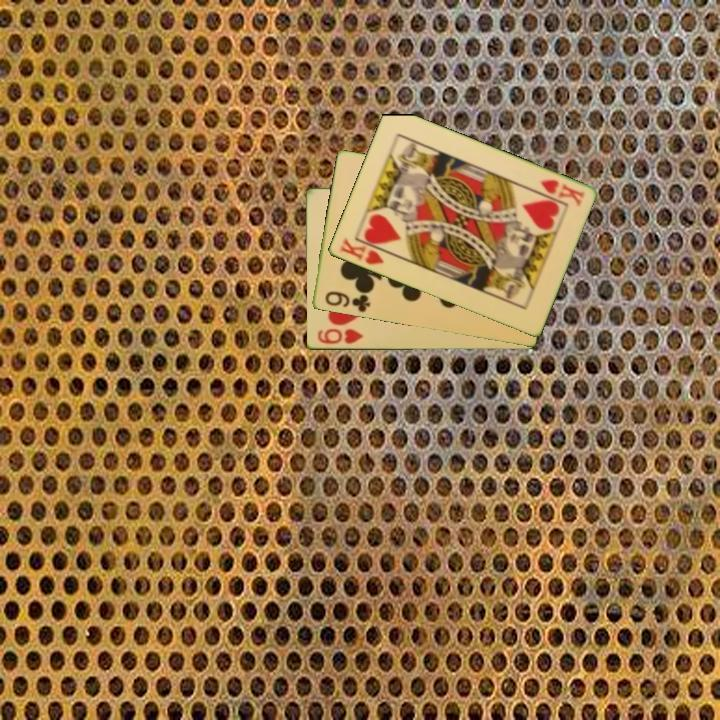6h: (314, 325, 366, 347)
9c: (321, 288, 373, 315)
Kh: (336, 234, 393, 268), (536, 176, 588, 209)
